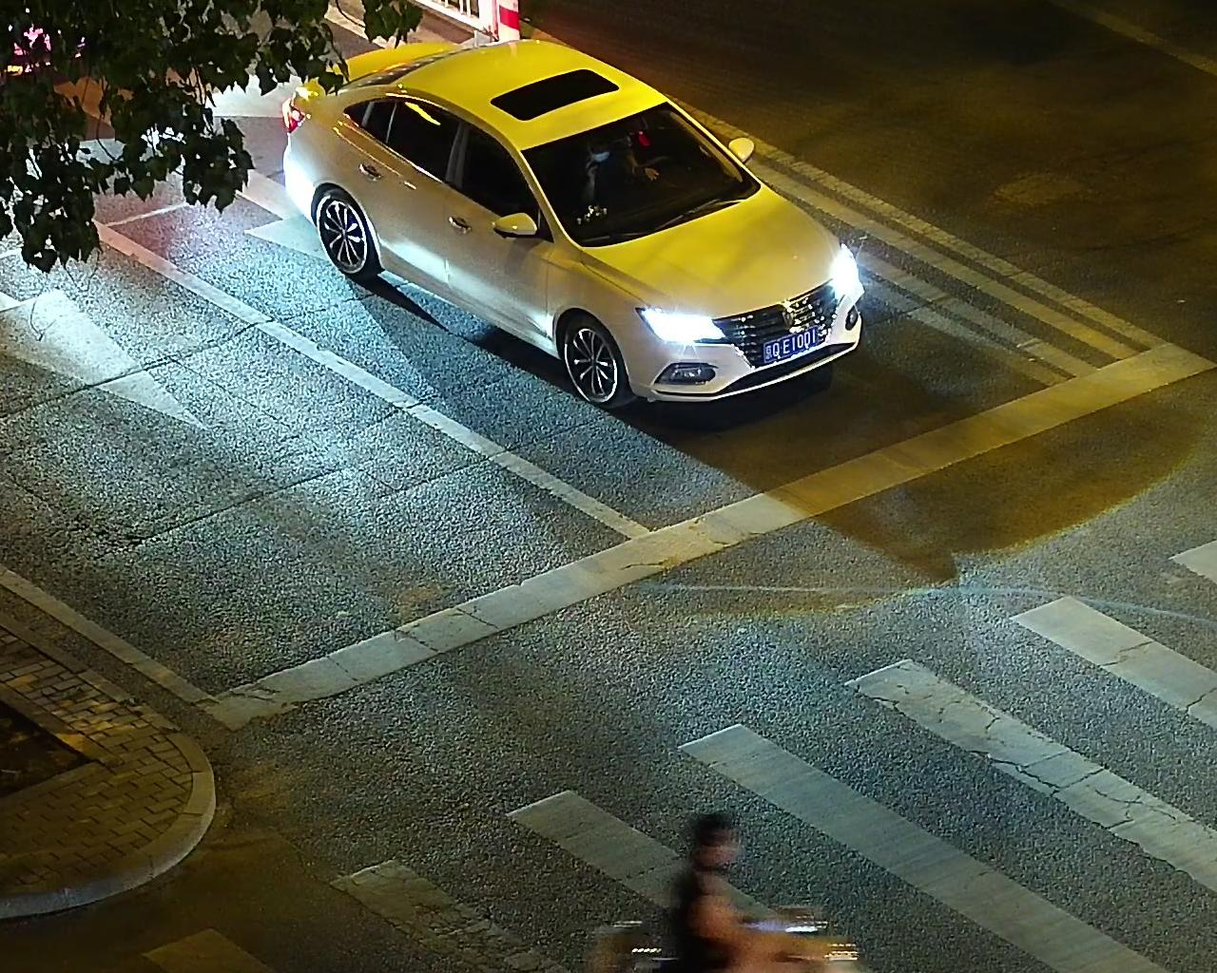person: (647, 790, 795, 973)
